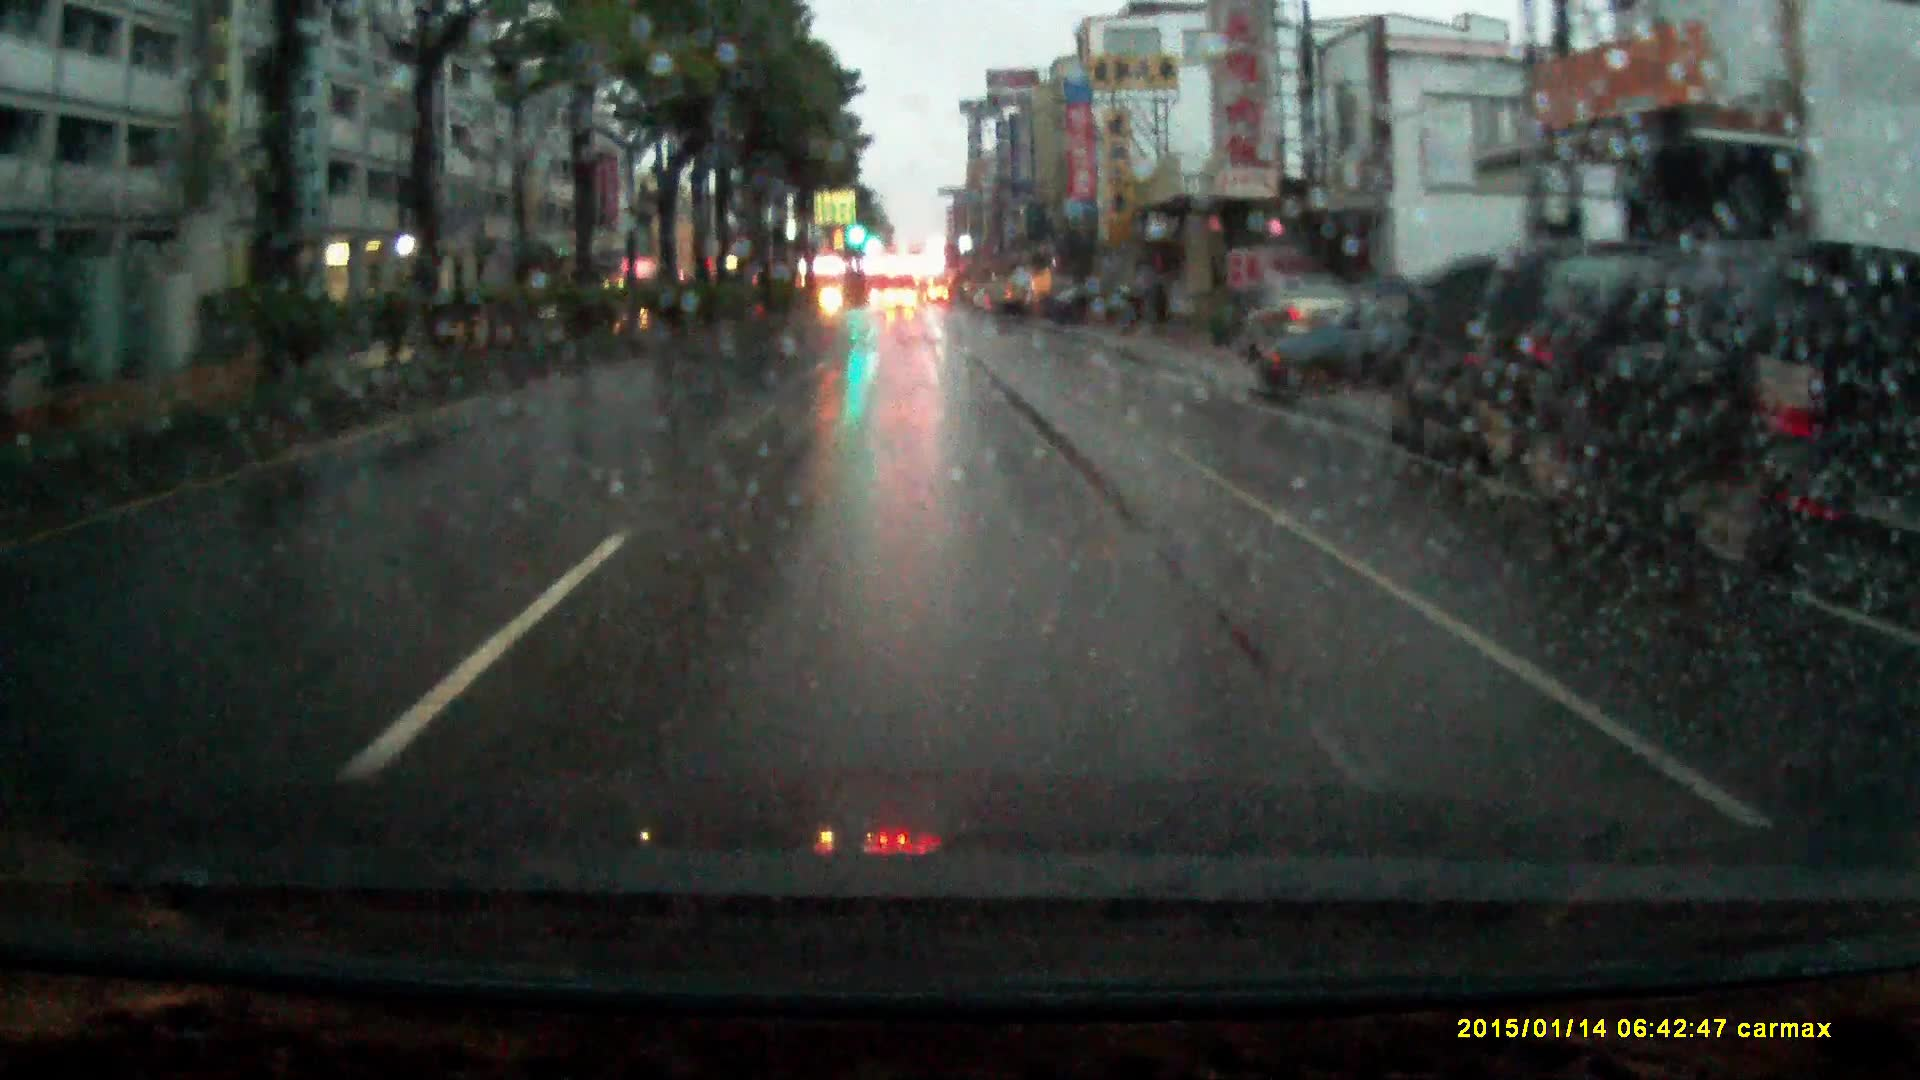vehicle: (1564, 237, 1920, 615), (1373, 248, 1751, 497), (1247, 286, 1505, 406), (1237, 280, 1360, 375), (986, 281, 1033, 322), (886, 291, 918, 315)
